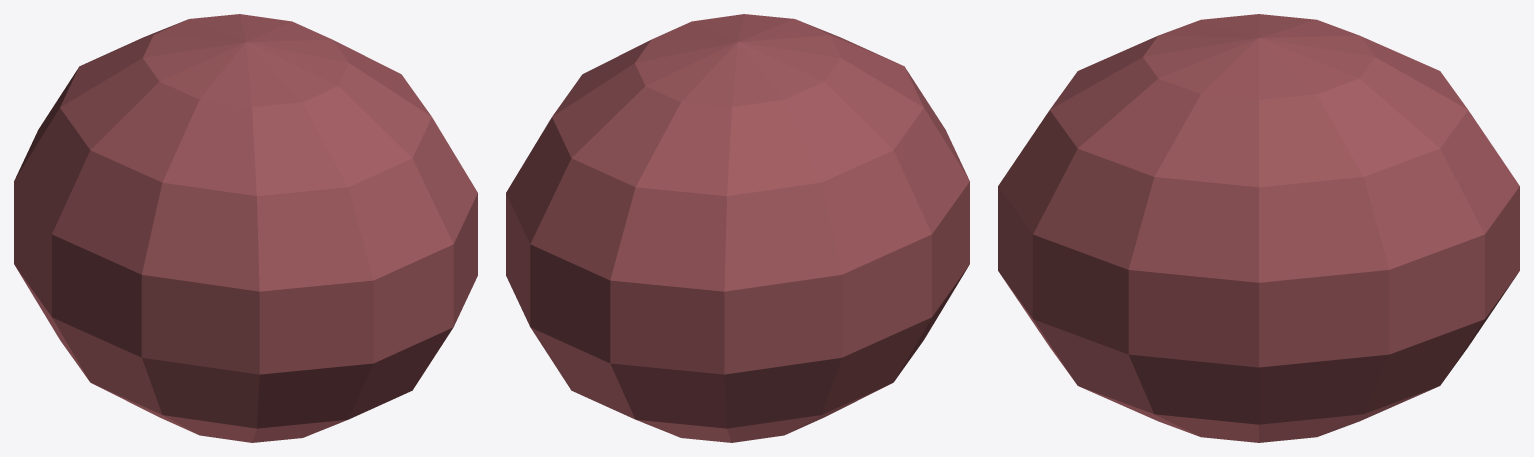
The model's file is toughspike_body.obj.
The picture shows the model from 3 angles, left to right: view 1: azimuth 30°, elevation 25°; view 2: azimuth 150°, elevation 25°; view 3: azimuth 270°, elevation 25°; orthographic projection. The views are drawn at different scales.
Parts seen in each view (by area): view 1: toughspike_body; view 2: toughspike_body; view 3: toughspike_body.
Boxes of the visible parts, x1=… form: toughspike_body: x1=14, y1=14, x2=477, y2=442; toughspike_body: x1=506, y1=14, x2=969, y2=442; toughspike_body: x1=998, y1=14, x2=1519, y2=442.
Bounding box in the file's own units: 0.7224 × 0.663 × 0.8238.
